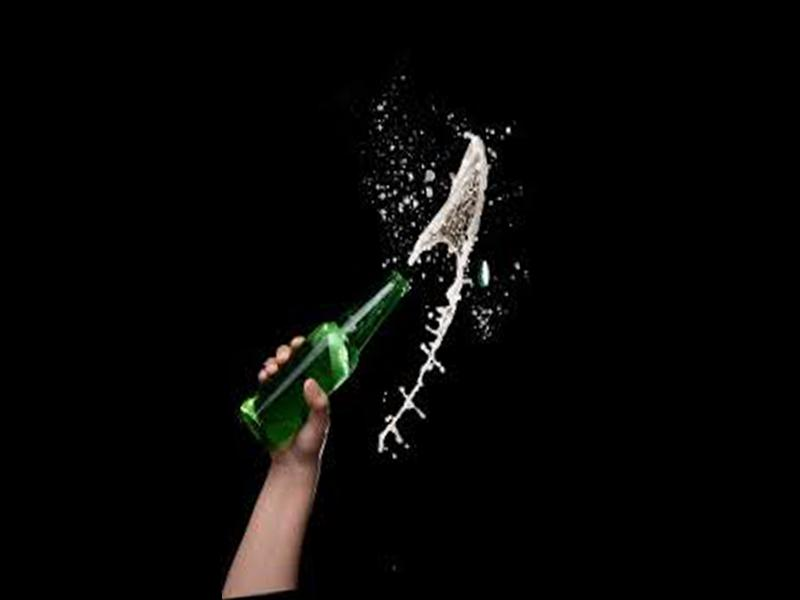Beer: (224, 270, 423, 454)
